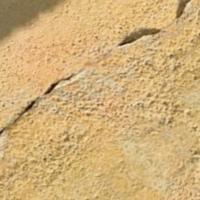crack: (0, 0, 199, 133)
